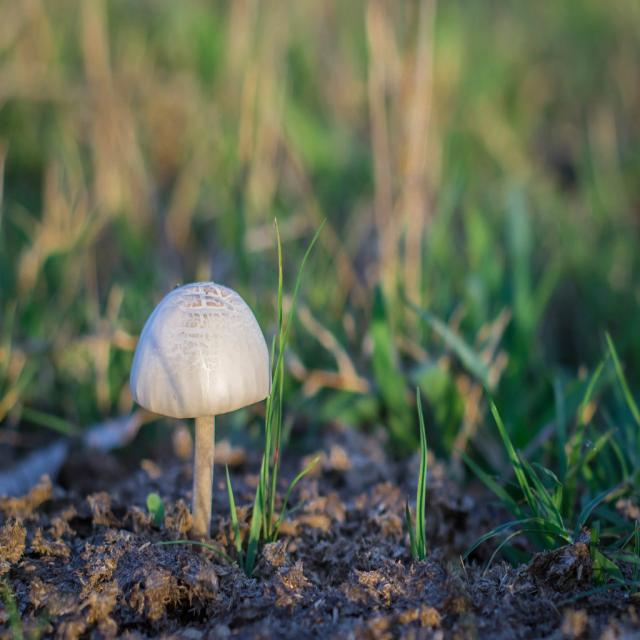Mushroom: (119, 286, 269, 554)
